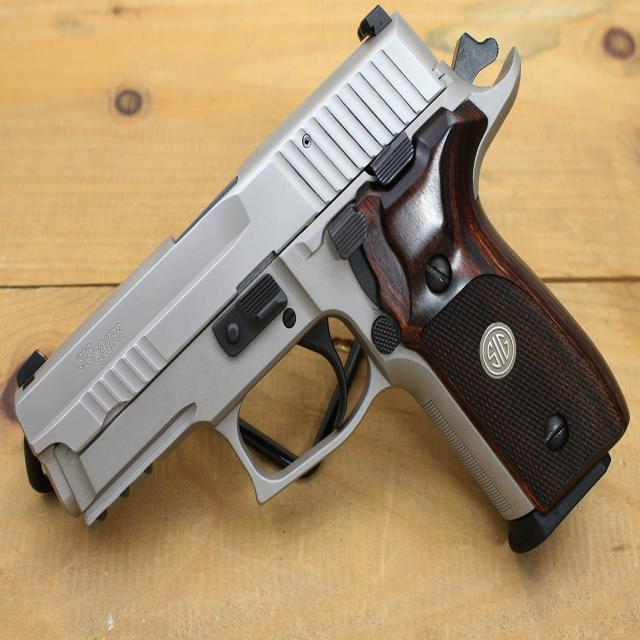Pistol: (9, 0, 640, 593)
